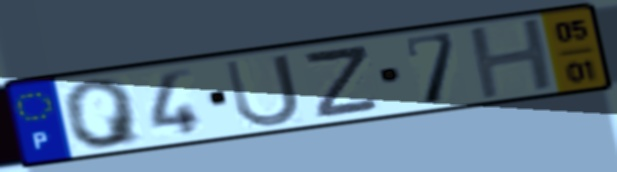4: (145, 67, 207, 138)
7: (402, 29, 458, 107)
H: (464, 15, 561, 103)
Q: (60, 75, 148, 151)
U: (220, 50, 305, 131)
Z: (303, 41, 383, 121)
